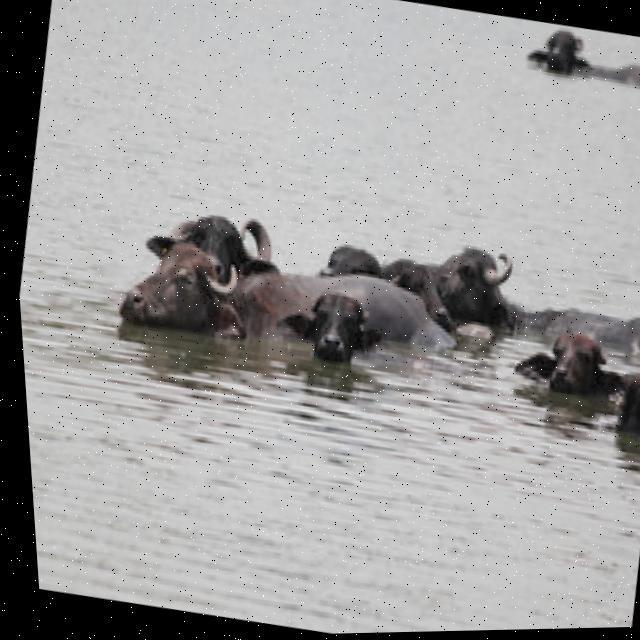Buffalo: (108, 219, 331, 368)
